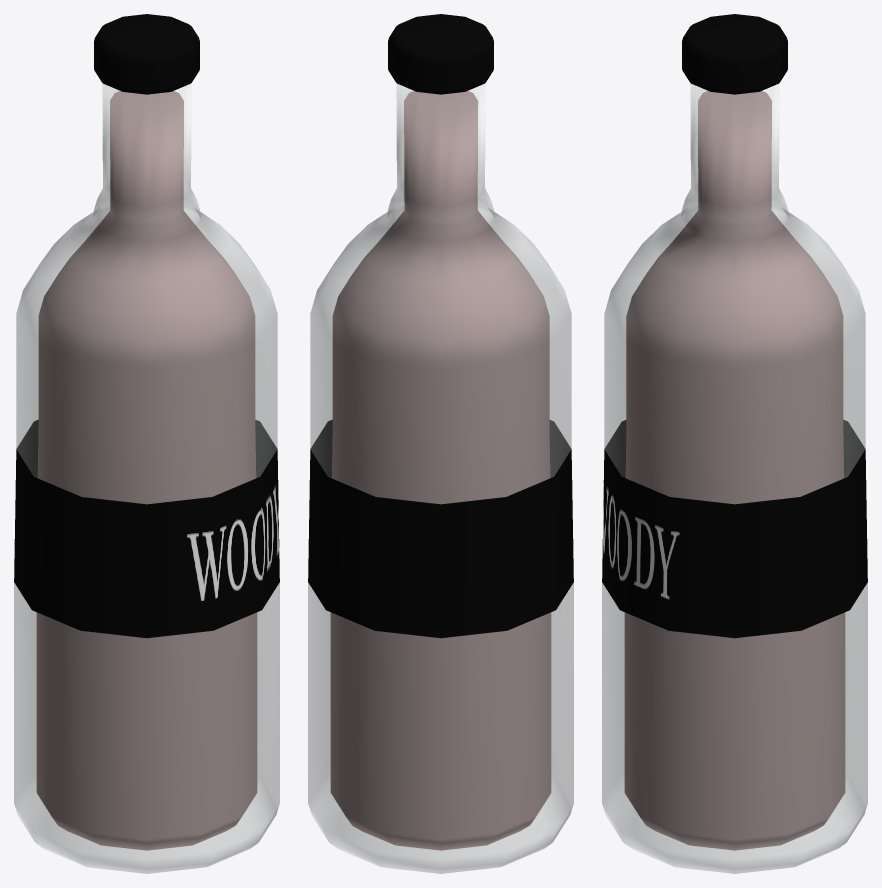
The model's file is BotellaWoody.fbx.
The picture shows the model from 3 angles, left to right: view 1: azimuth 30°, elevation 25°; view 2: azimuth 150°, elevation 25°; view 3: azimuth 270°, elevation 25°; orthographic projection.
Parts seen in each view (by area): view 1: BotellaAlcohol, LiquidoAlcohol; view 2: BotellaAlcohol, LiquidoAlcohol; view 3: BotellaAlcohol, LiquidoAlcohol.
Part boxes in pixels (box(x1,y1,x2,y2)): BotellaAlcohol: box(14, 14, 279, 873); LiquidoAlcohol: box(36, 91, 257, 850); BotellaAlcohol: box(308, 14, 573, 873); LiquidoAlcohol: box(330, 91, 551, 850); BotellaAlcohol: box(602, 14, 867, 873); LiquidoAlcohol: box(624, 91, 845, 850).
Bounding box in the file's own units: 10.54 × 34.69 × 10.54.
